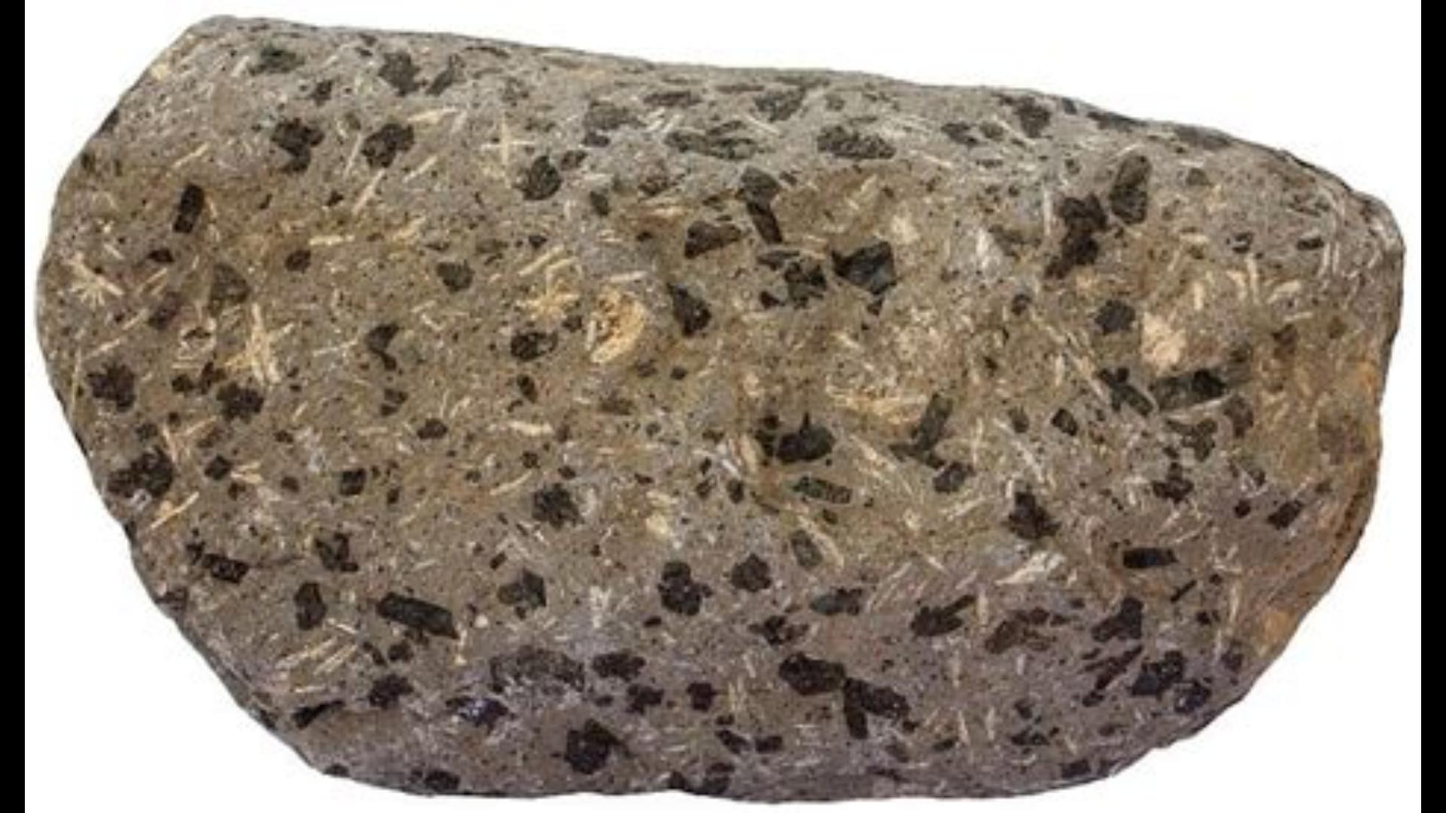rock: (37, 21, 1398, 792)
